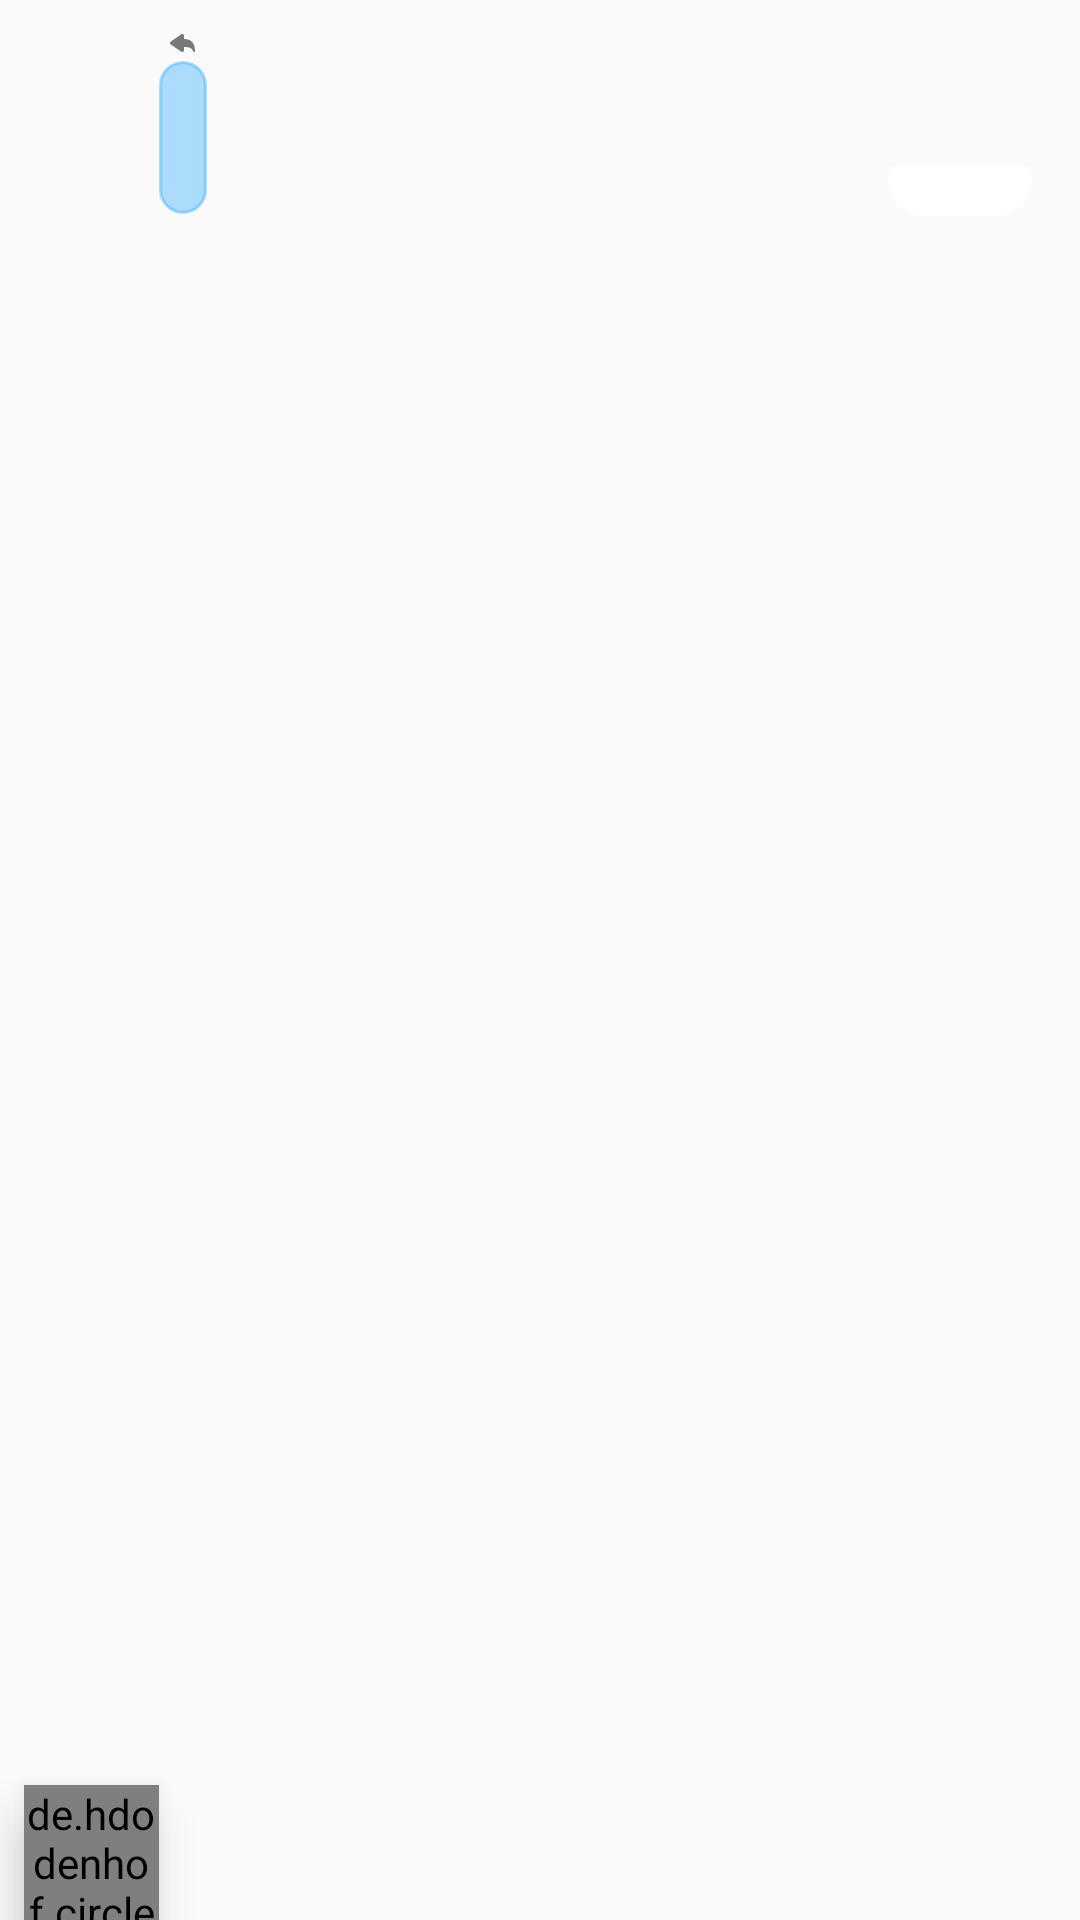

Icon bounding boxes for this 1080 x 1920 phone screenshot, format (x1=x1, y1=y1, x2=x2, y2=y2):
reply: (x1=170, y1=34, x2=195, y2=52)
